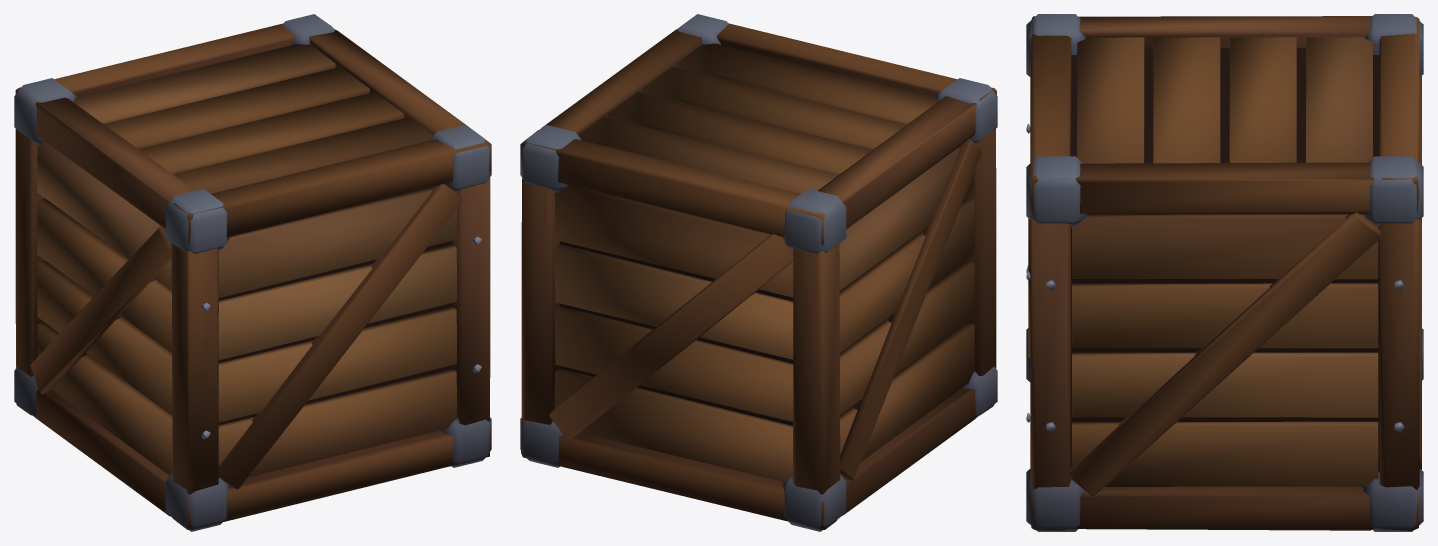
Rendered from caisse_bois.glb.
3 views of the same model, side by side, from view 1: azimuth 30°, elevation 25°; view 2: azimuth 150°, elevation 25°; view 3: azimuth 270°, elevation 25° (orthographic). The views are drawn at different scales.
Visible parts, largest first — view 1: caisse_bois; view 2: caisse_bois; view 3: caisse_bois.
Part boxes in pixels (x1,y1,x2,y2): caisse_bois: (14, 14, 491, 531); caisse_bois: (520, 14, 997, 531); caisse_bois: (1026, 14, 1423, 531).
Bounding box in the file's own units: 1.02 × 1.02 × 1.02.
